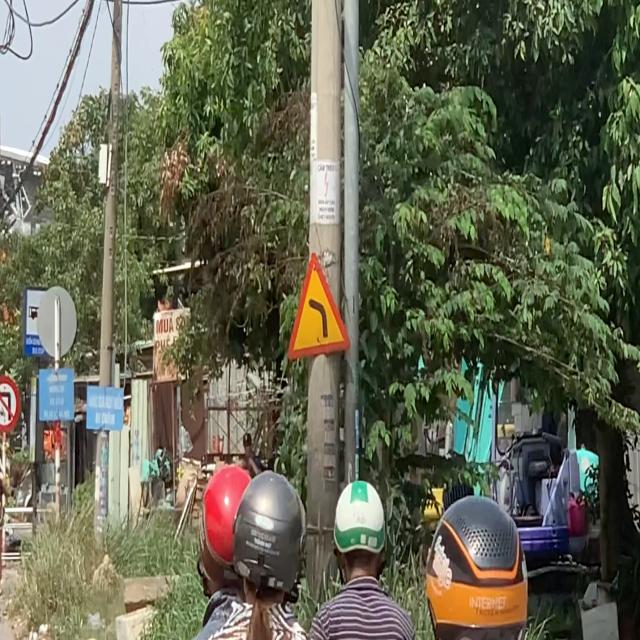Nguy hiem: (285, 247, 352, 365)
